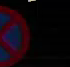No Stopping: (0, 1, 38, 65)
